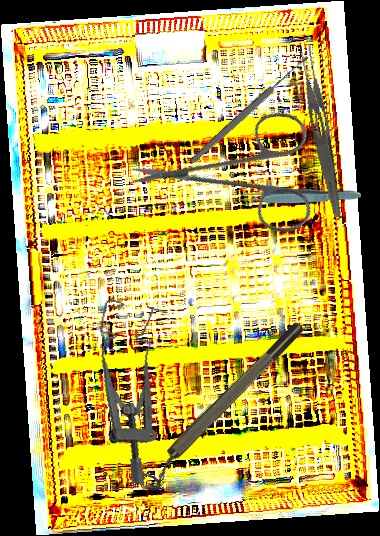Dressing Forceps: (294, 44, 350, 219)
Fixation Ring: (130, 318, 315, 497)
Iris Scissors: (125, 59, 355, 288)
Speculum: (69, 297, 183, 486)
Surgical Spoon: (187, 52, 312, 167)
Tissue Forceps: (236, 186, 362, 206)
